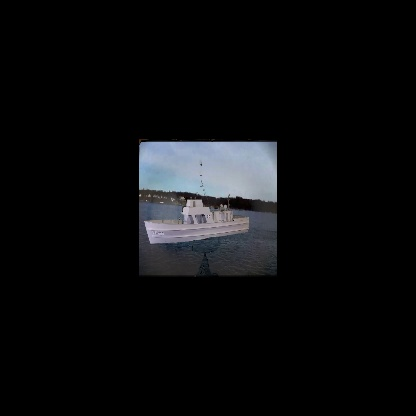YP689: (144, 156, 251, 245)
